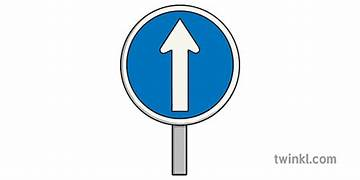forward: (120, 4, 240, 125)
